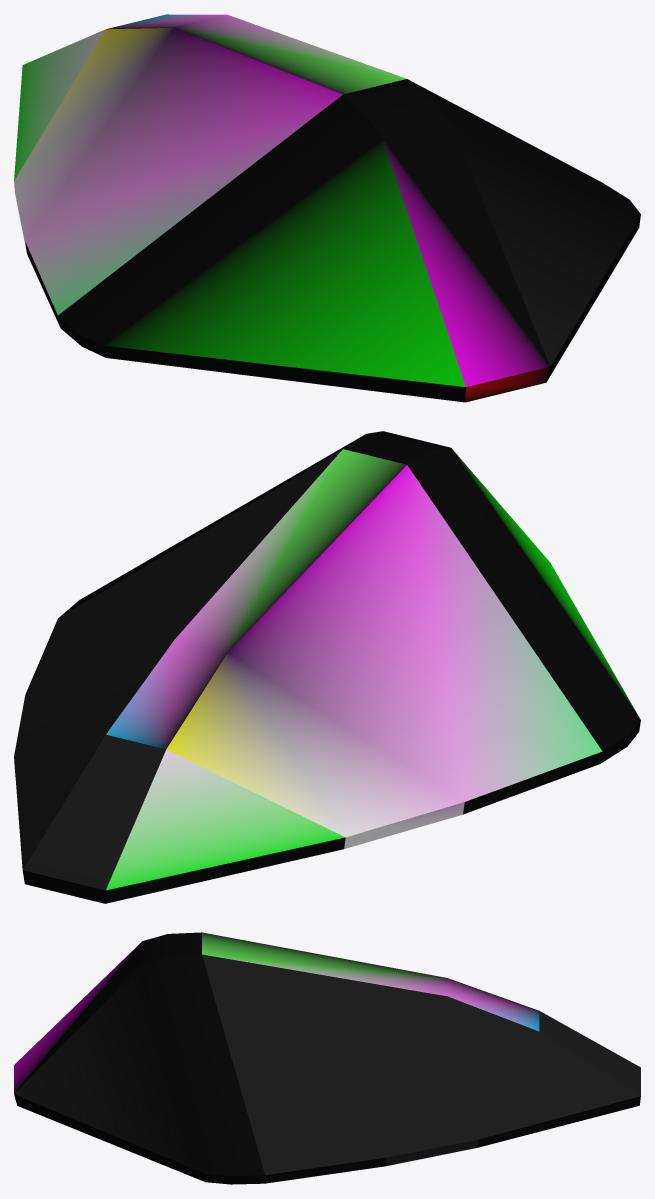
File: Geo_Body_B.fbx
3 views of the same model, one above another, from view 1: azimuth 30°, elevation 25°; view 2: azimuth 150°, elevation 25°; view 3: azimuth 270°, elevation 25° (orthographic). The views are drawn at different scales.
Parts seen in each view (by area): view 1: Geo_Body_B; view 2: Geo_Body_B; view 3: Geo_Body_B.
Part boxes in pixels (<box>): Geo_Body_B: <box>14,14,640,402</box>; Geo_Body_B: <box>14,431,640,903</box>; Geo_Body_B: <box>14,932,640,1184</box>.
Size of the model in its own units: 8.86 by 4.23 by 12.38.
